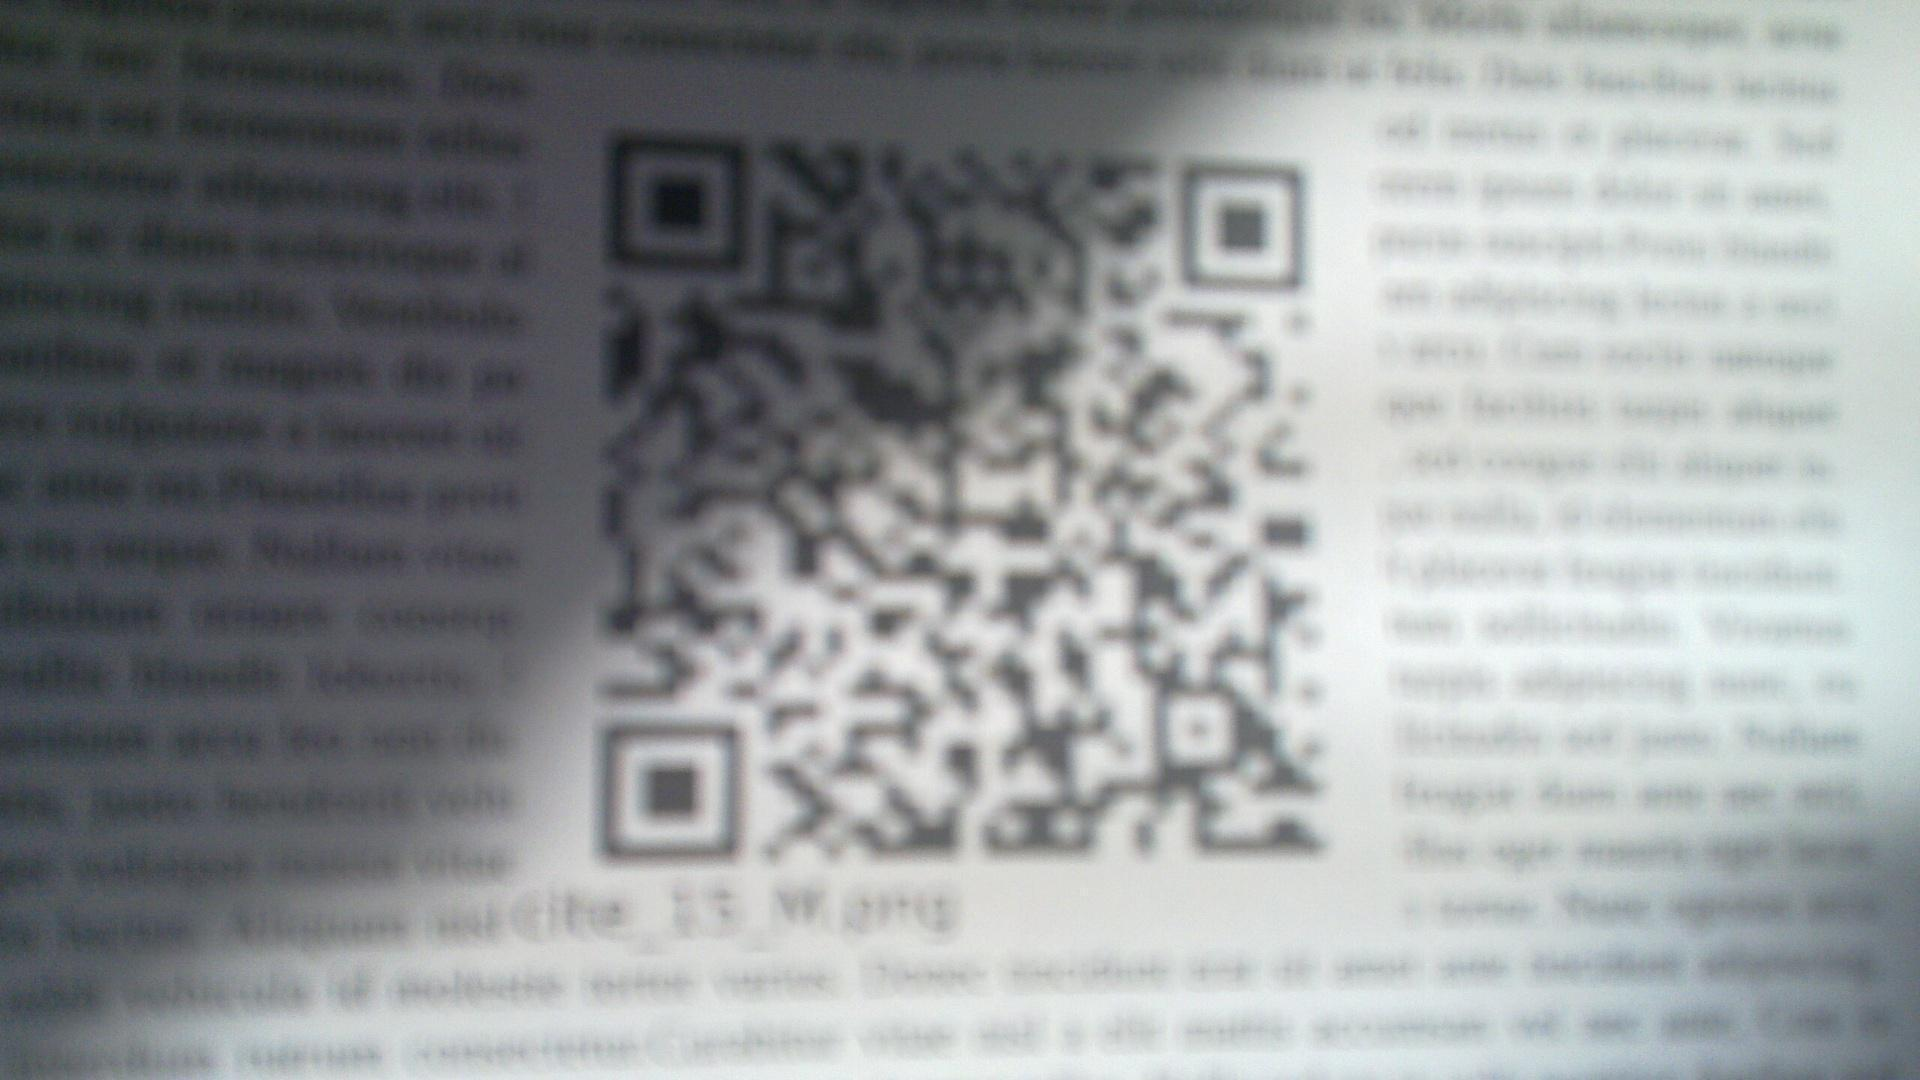qr_code: (600, 131, 1331, 868)
